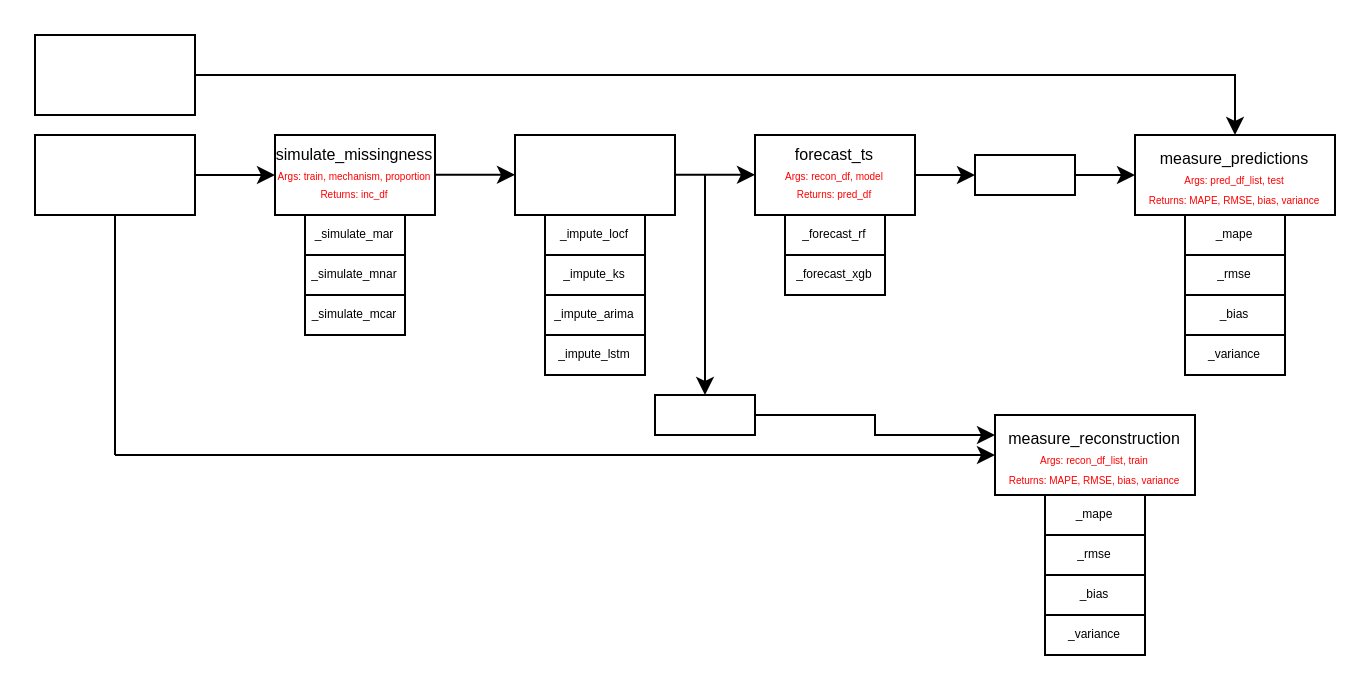
Some shapes in this 1370 by 690 pixel diagram are drawn without their labels. Each missing label, with the box of its shape:
impute_ts Args: inc_df, imp_model Returns: recon_df: (513, 133, 675, 215)
list of forecasted dfs: (973, 153, 1075, 195)
list of reconstructed dfs: (653, 393, 755, 435)
Test data: (33, 33, 195, 115)
Train data: (33, 133, 195, 215)
